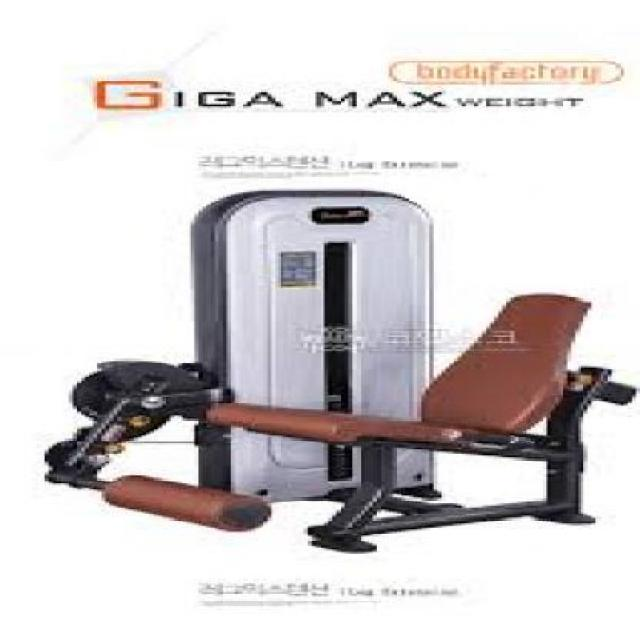leg extension: (27, 178, 640, 578)
